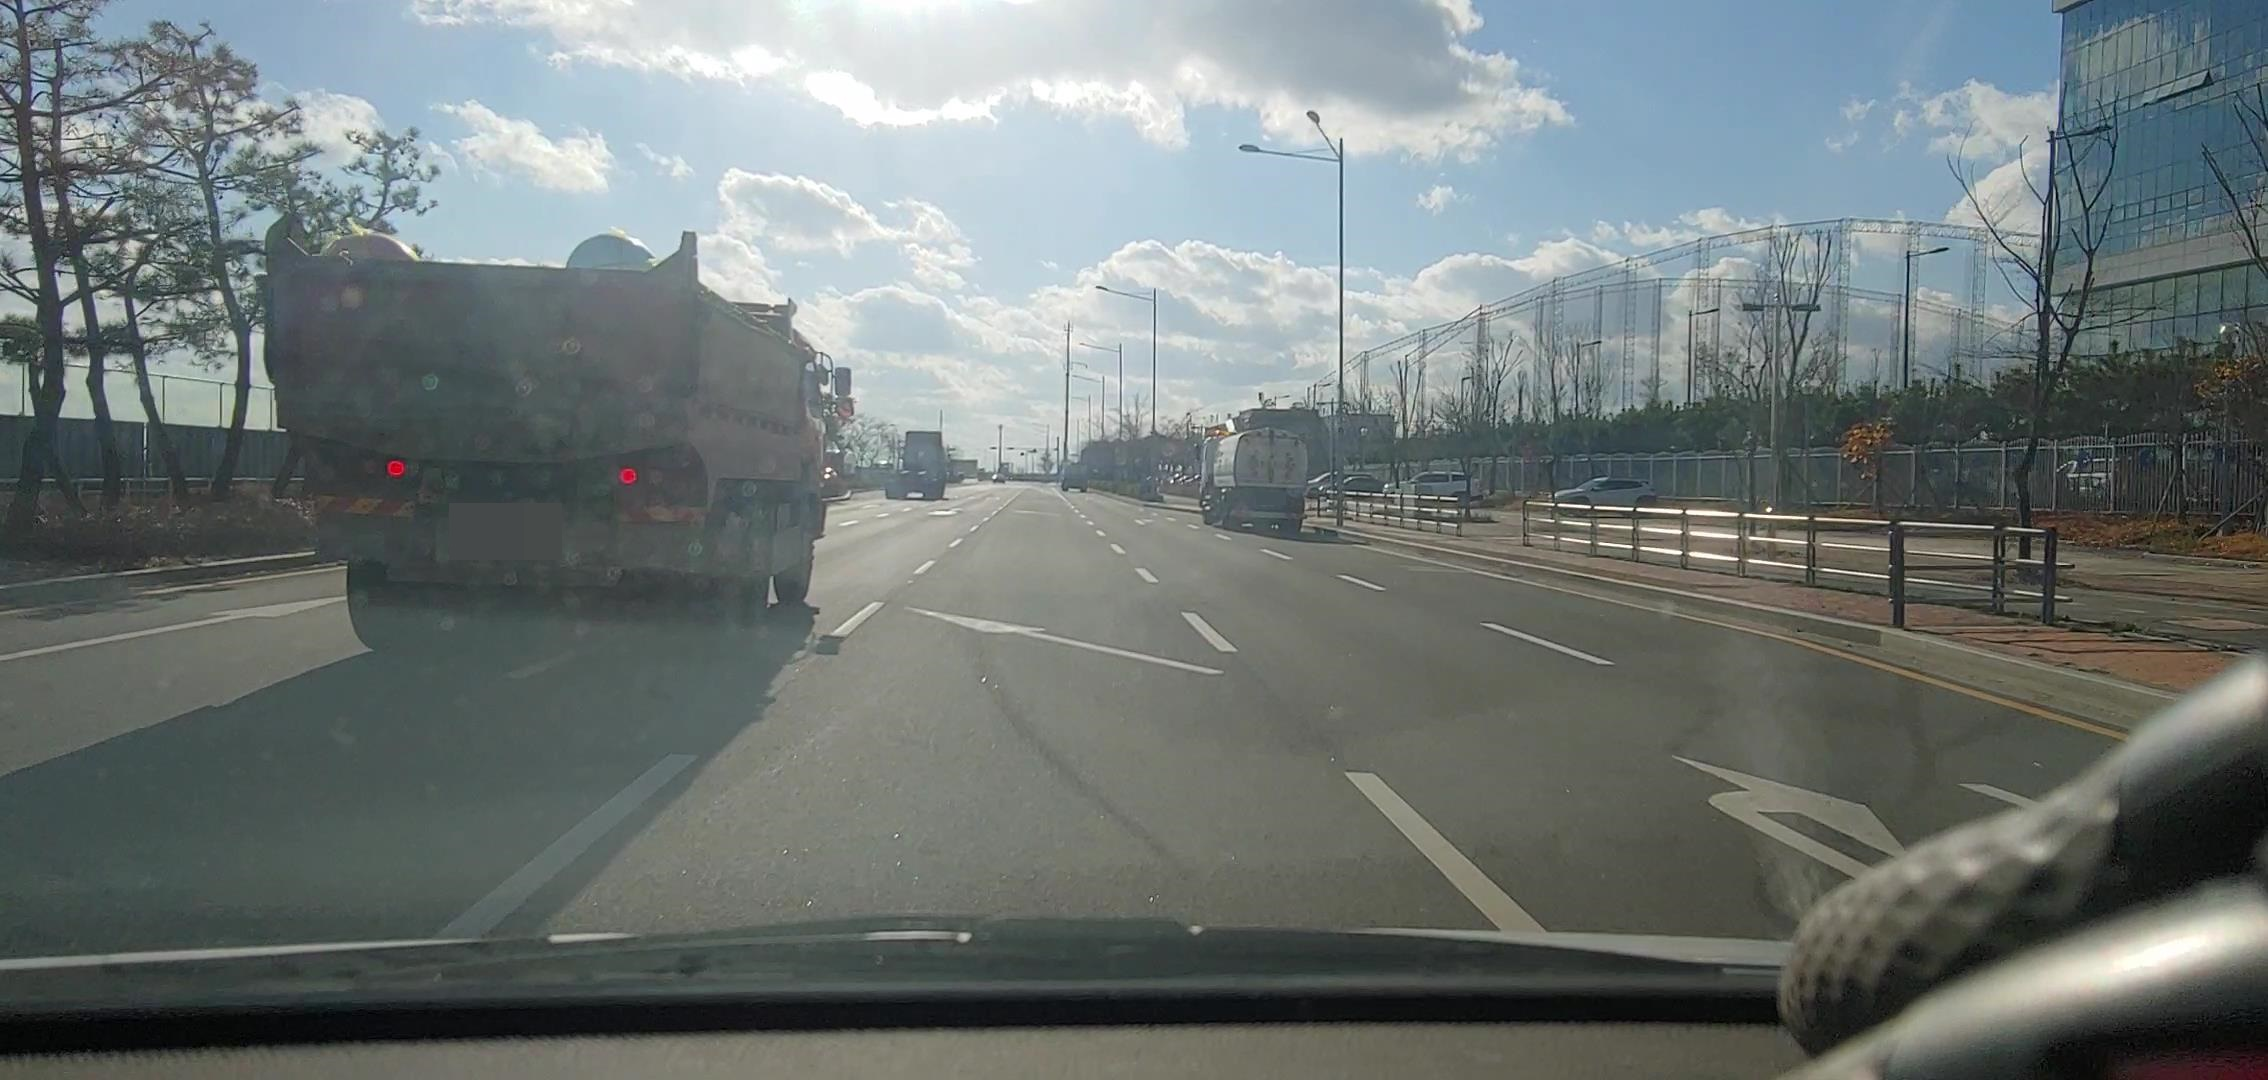불법차량: (263, 211, 853, 658)
